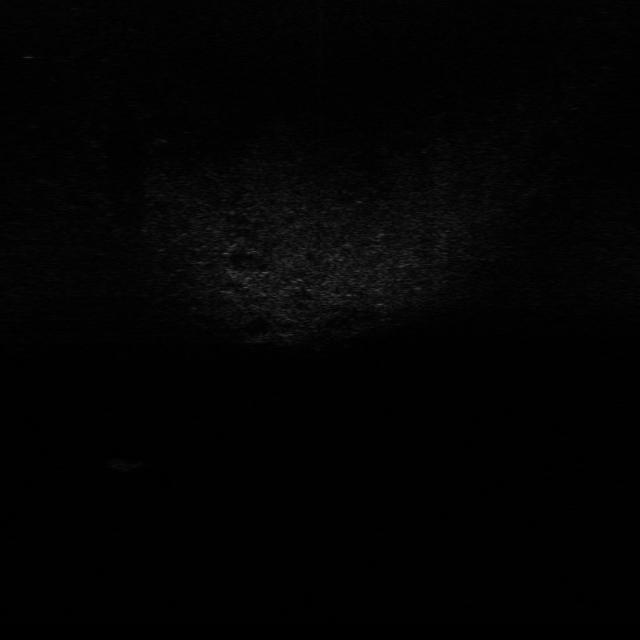cube: (107, 442, 151, 474)
